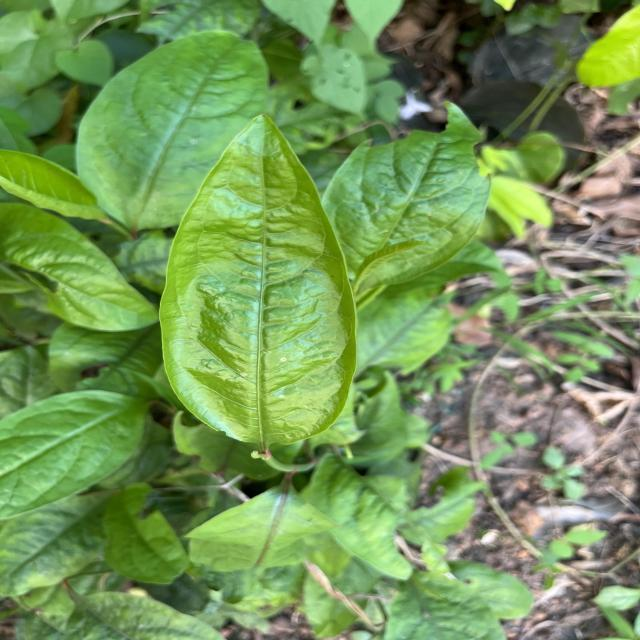Plumbago indica: (156, 110, 360, 456), (72, 26, 271, 232), (320, 98, 495, 300)
